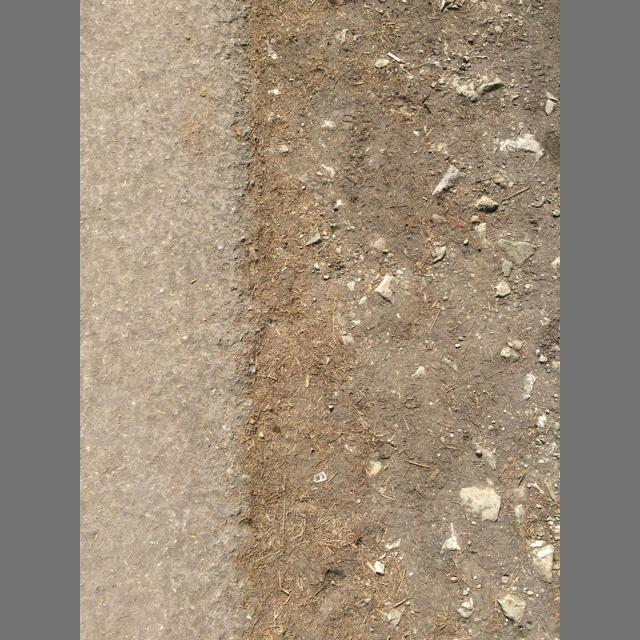litter: (313, 471, 327, 483), (387, 52, 402, 62)
